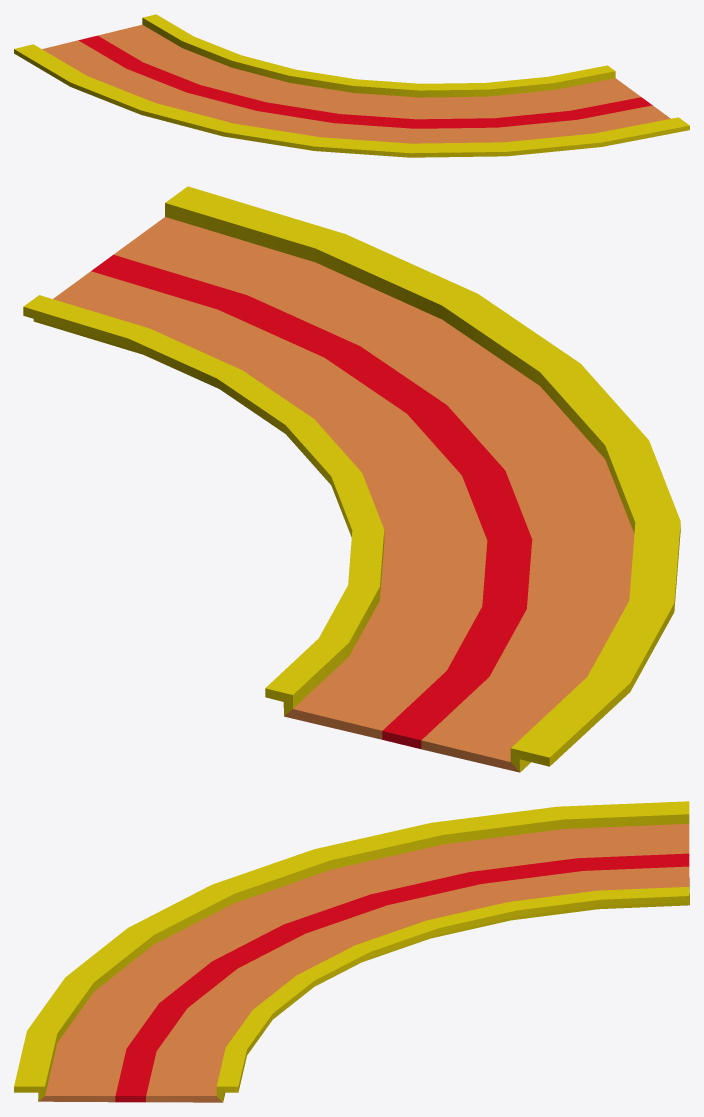
Rendered from Turn2.fbx.
The picture shows the model from 3 angles, top to bottom: view 1: azimuth 30°, elevation 25°; view 2: azimuth 150°, elevation 25°; view 3: azimuth 270°, elevation 25°; orthographic projection. The views are drawn at different scales.
Parts seen in each view (by area): view 1: Turn2; view 2: Turn2; view 3: Turn2.
Boxes of the visible parts, box(x1,y1,x2,y2) form: Turn2: box(14, 14, 689, 157); Turn2: box(23, 186, 680, 772); Turn2: box(14, 801, 689, 1102).
Bounding box in the file's own units: 599 × 15.54 × 600.
